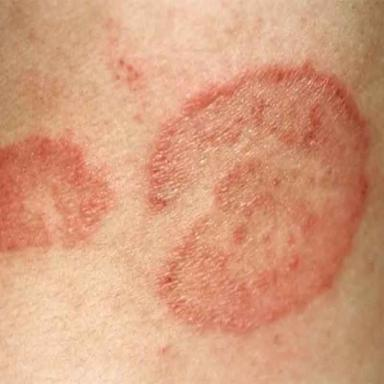Tinea-Corporis: (149, 64, 367, 331), (0, 136, 114, 251)
